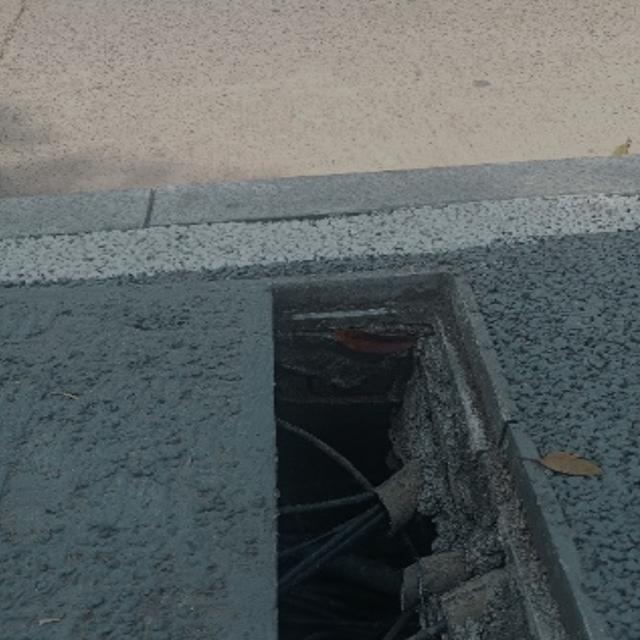uncovered: (0, 263, 623, 640)
